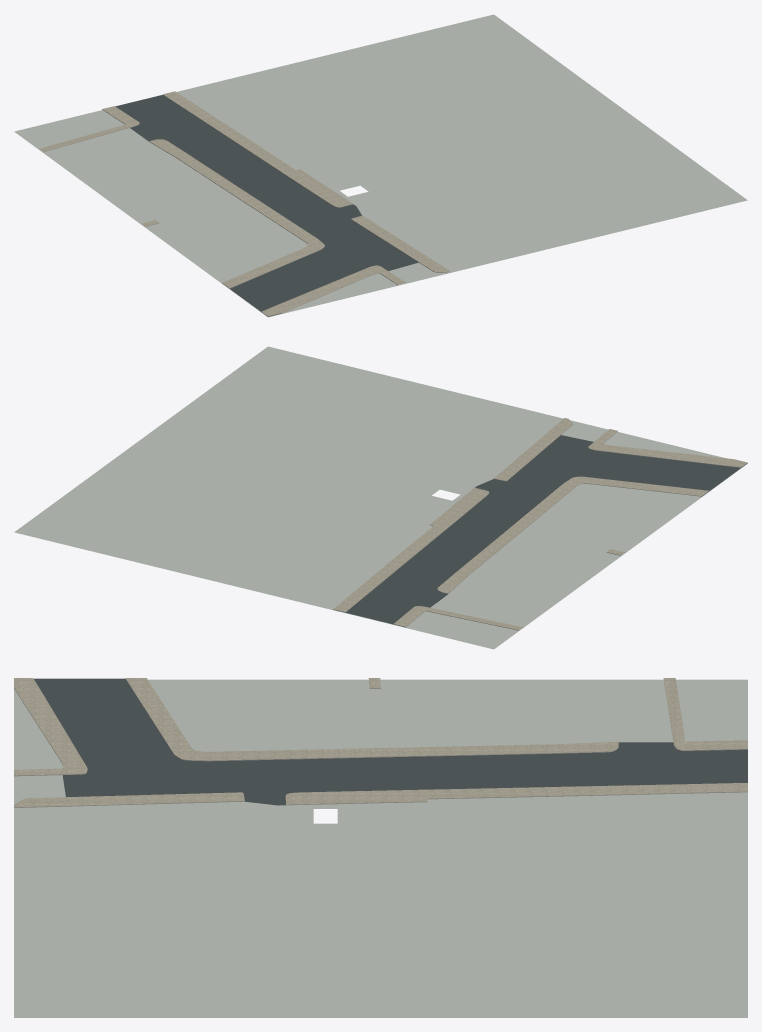
Rendered from guil-street.fbx.
The picture shows the model from 3 angles, top to bottom: view 1: azimuth 30°, elevation 25°; view 2: azimuth 150°, elevation 25°; view 3: azimuth 270°, elevation 25°; orthographic projection. The views are drawn at different scales.
Visible parts, largest first — view 1: GUIL_UnknownGround_Placeholder, GUIL_RoadCorridor_2025_Draft, GUIL_Walkway_2025_Draft; view 2: GUIL_UnknownGround_Placeholder, GUIL_RoadCorridor_2025_Draft, GUIL_Walkway_2025_Draft; view 3: GUIL_UnknownGround_Placeholder, GUIL_RoadCorridor_2025_Draft, GUIL_Walkway_2025_Draft.
Boxes of the visible parts, <box> form: GUIL_UnknownGround_Placeholder: <box>14,14,747,317</box>; GUIL_RoadCorridor_2025_Draft: <box>115,95,418,316</box>; GUIL_Walkway_2025_Draft: <box>39,91,450,316</box>; GUIL_UnknownGround_Placeholder: <box>14,346,747,649</box>; GUIL_RoadCorridor_2025_Draft: <box>333,435,747,627</box>; GUIL_Walkway_2025_Draft: <box>333,418,747,630</box>; GUIL_UnknownGround_Placeholder: <box>14,679,747,1017</box>; GUIL_RoadCorridor_2025_Draft: <box>34,678,747,805</box>; GUIL_Walkway_2025_Draft: <box>14,678,747,807</box>.
Size of the model in its own units: 12000 by 11000 by 24.
4 materials, 2 textured.
